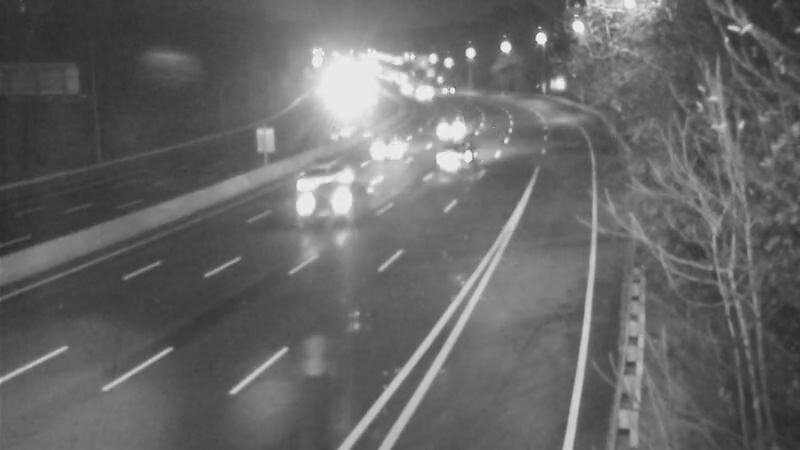vehicle: (420, 116, 500, 196), (278, 131, 358, 211), (295, 160, 375, 240), (421, 101, 471, 151), (373, 124, 423, 174)
